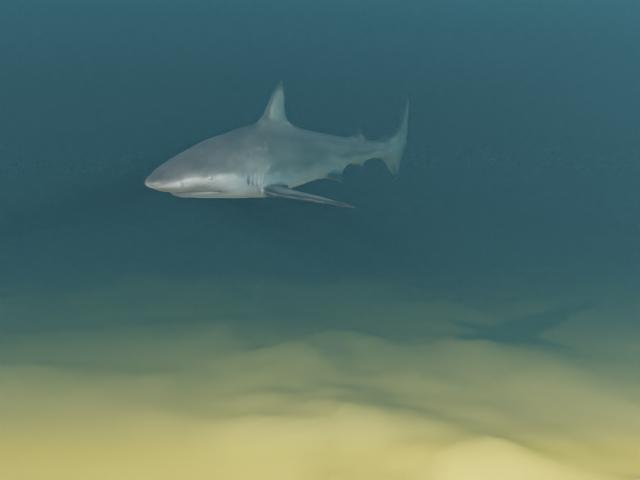Carribean Shark.001: (144, 81, 409, 207)
